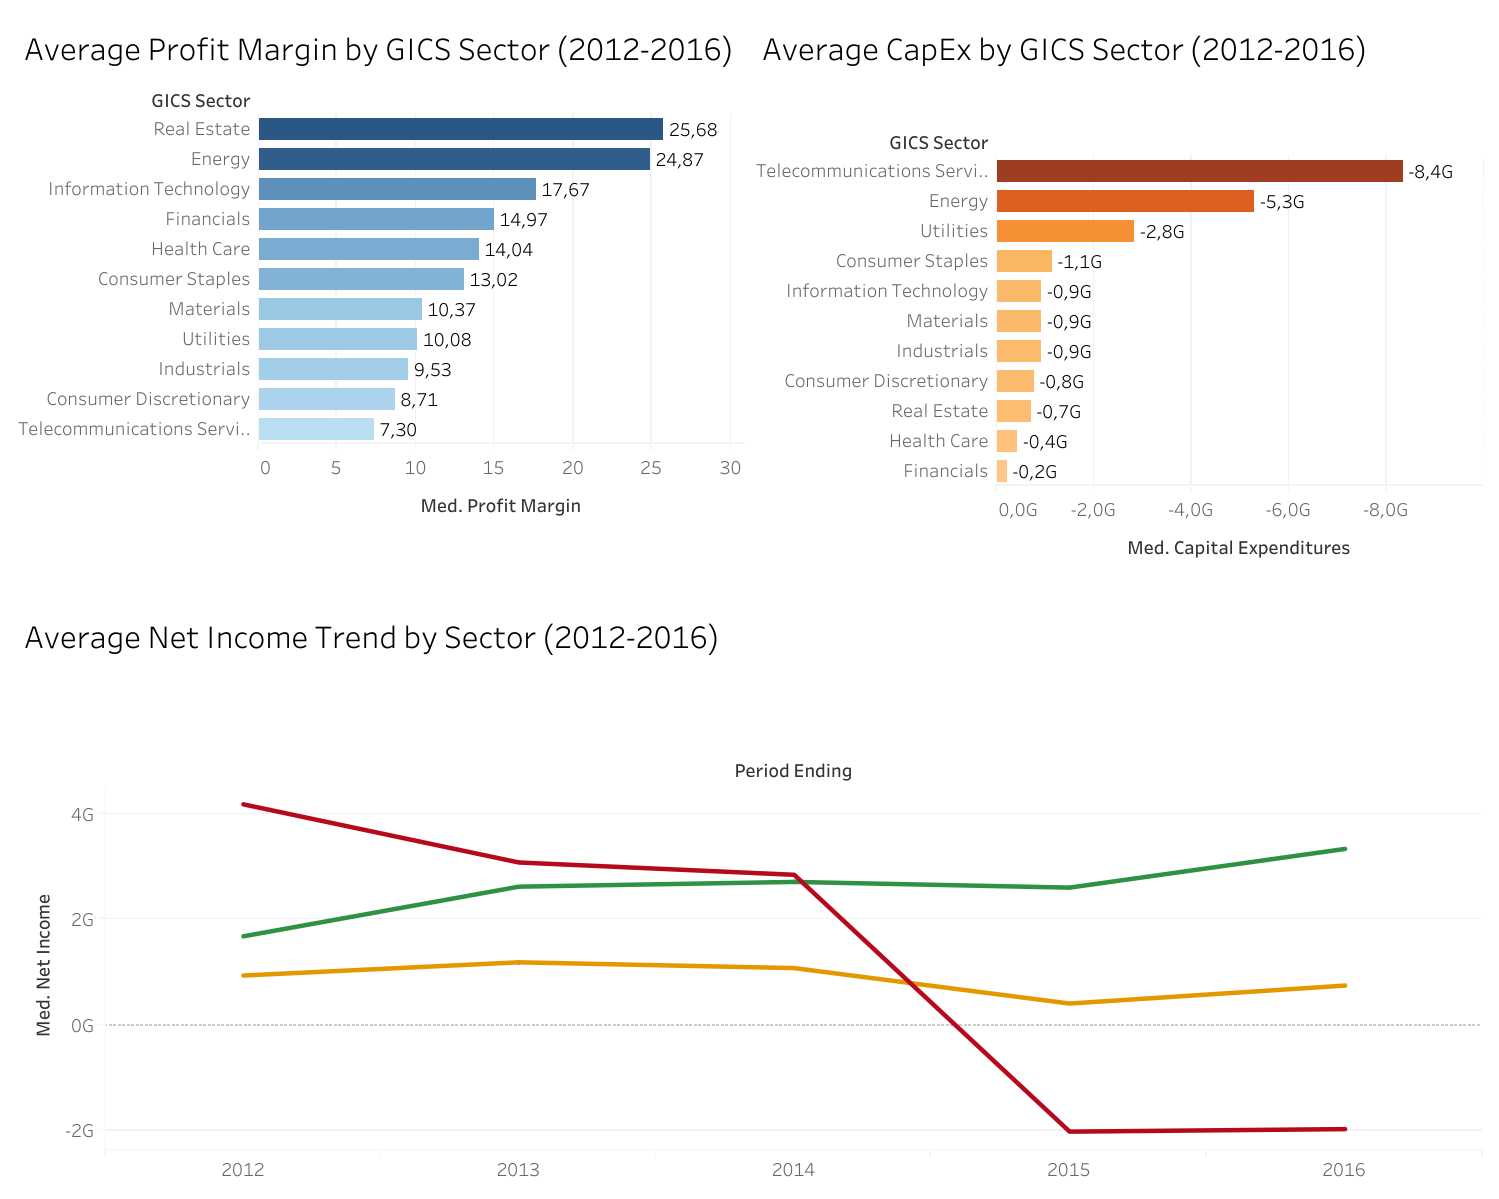

What the dashboard file says about the page in this screenshot:
{"tool":"tableau","page":{"name":"Dashboard 1","canvas":[1000,800],"ordinal":0},"visuals":[{"type":"worksheet","title":"Foglio 1","mark":"Bar","rows":["GICS Sector"],"cols":["Profit Margin"],"box":[8,8,492,392]},{"type":"worksheet","title":"Foglio 2","mark":"Automatic","rows":["GICS Sector"],"cols":["Capital Expenditures"],"box":[500,8,492,392]},{"type":"worksheet","title":"Foglio 3","mark":"Automatic","rows":["Net Income"],"cols":["Period Ending"],"box":[8,400,984,392]}]}

Visuals, with their boxes in screenshot pixels (x1, y1, x2, y2), scaled from the page's 1000x800 canvas onto the 1499x1199 screenshot:
"Foglio 1" worksheet (Bar marks): {"left": 12, "top": 12, "right": 750, "bottom": 600}
"Foglio 2" worksheet: {"left": 750, "top": 12, "right": 1487, "bottom": 600}
"Foglio 3" worksheet: {"left": 12, "top": 600, "right": 1487, "bottom": 1187}
